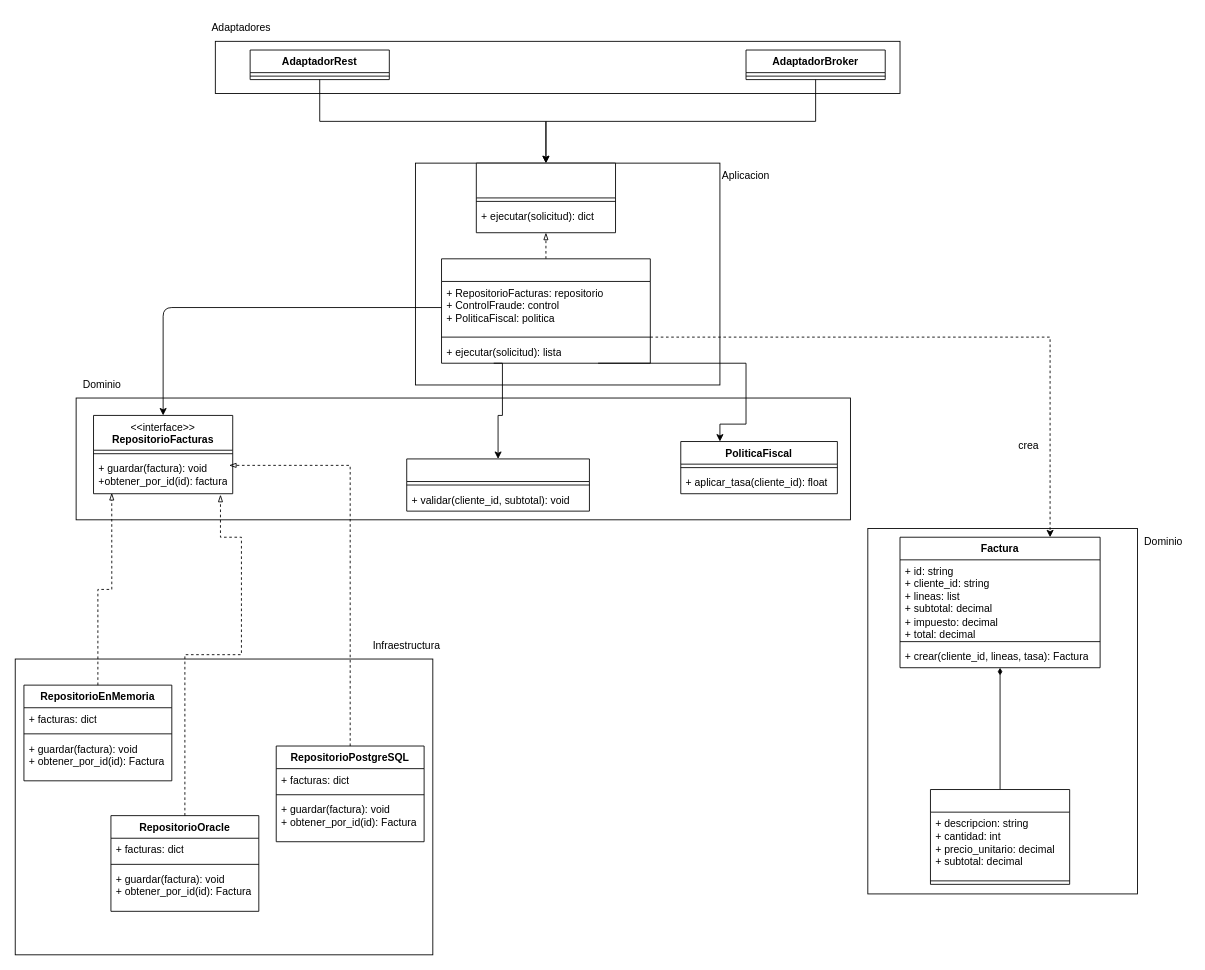
Image size: 1205x970. Some labels were removed from this diagram. The box of each missing label's shape, as (x1, y1, x2, y2) in pixels:
<<interface>> CrearFactura: (475, 162, 616, 233)
ControlFraude: (406, 458, 589, 511)
CrearFacturaUseCase: (441, 258, 650, 363)
DetalleFactura: (930, 789, 1070, 884)
